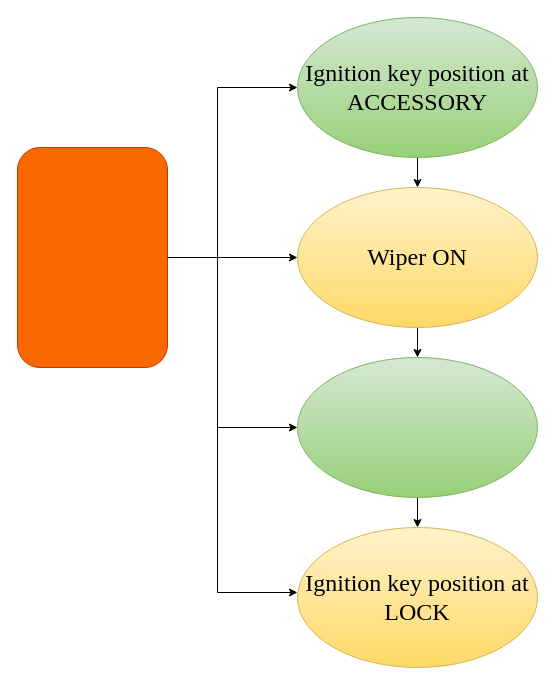
The diagram is 555 pixels wide and 685 high, and some of its shapes have lost their labels. Each missing label, with the centre of its shape:
"Wiper Control System" goes at point 92,257.
"Wiper OFF" goes at point 417,427.
